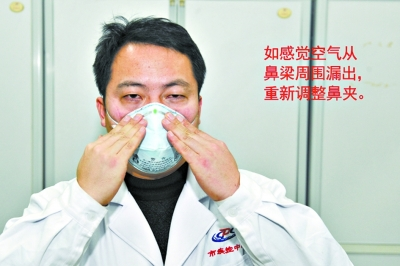yes_mask: (91, 14, 207, 177)
